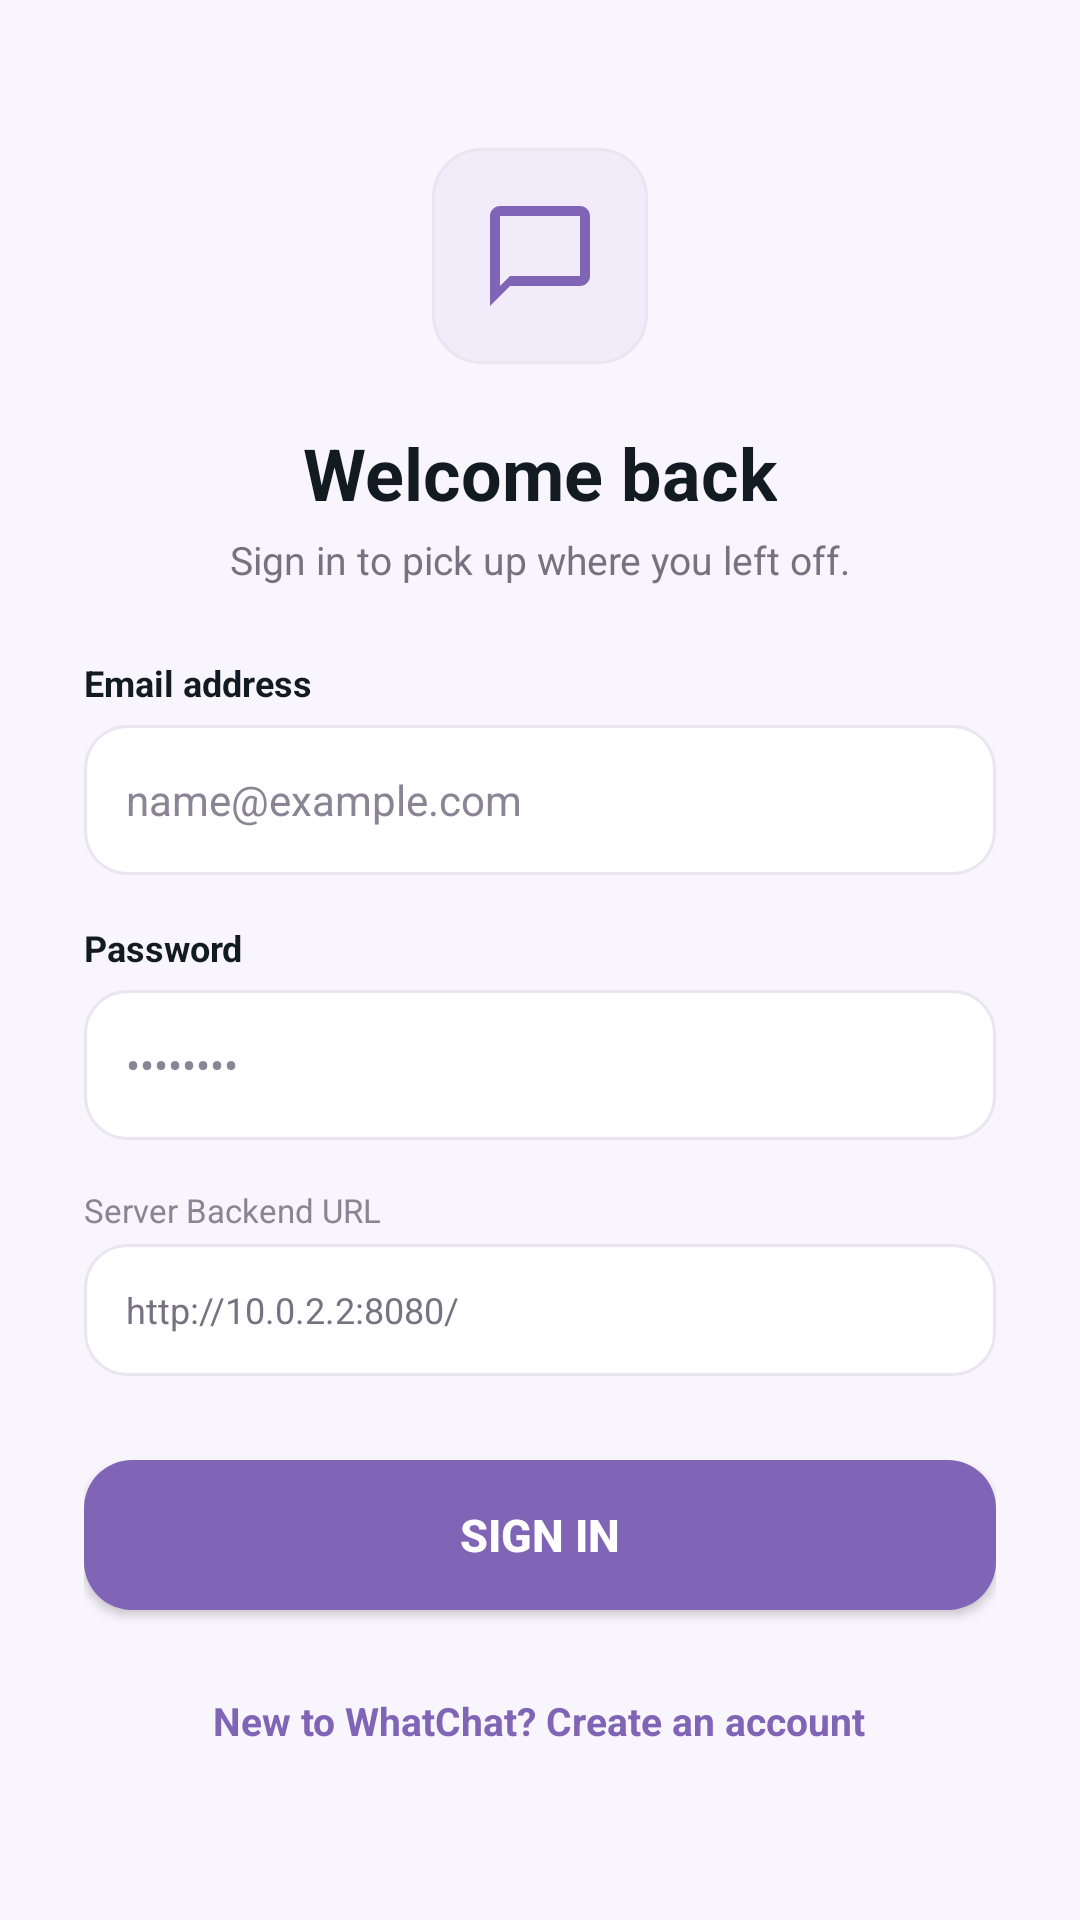

Screen size 1080 × 1920. Icon name, then its box in pixels as (x1, y1, x2, y2):
chats: (490, 206, 590, 306)
